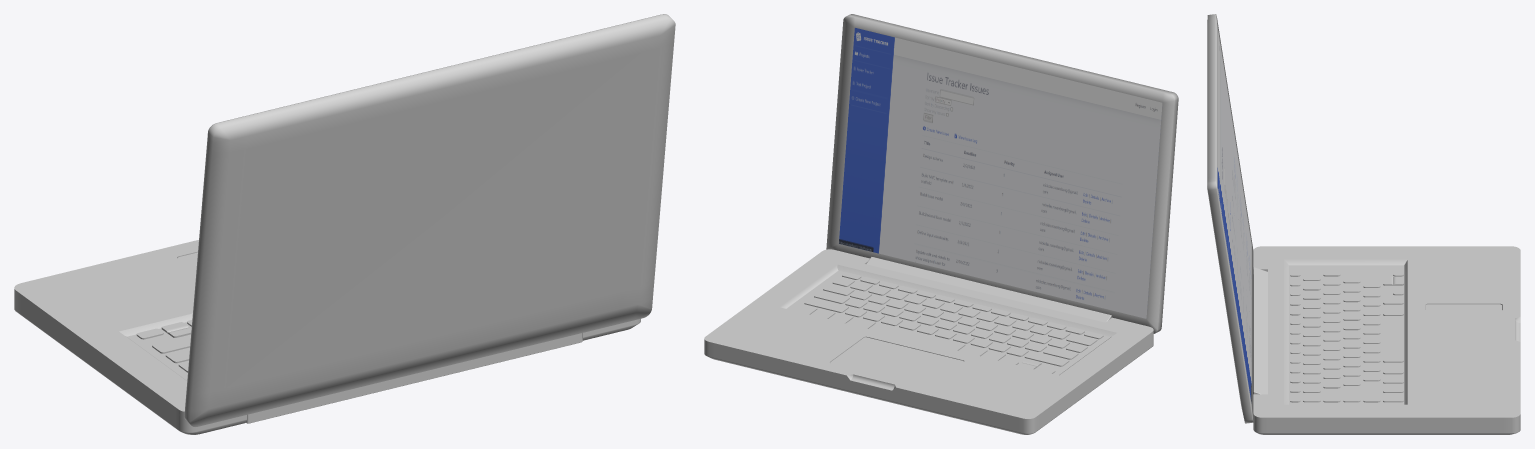
The model's file is issuetracker.glb.
3 views of the same model, side by side, from view 1: azimuth 30°, elevation 25°; view 2: azimuth 150°, elevation 25°; view 3: azimuth 270°, elevation 25° (orthographic). The views are drawn at different scales.
Visible parts, largest first — view 1: Cube.002_Cube.009, Cube.004, Cube.007_Cube.005, Cube.001, Cube.035, Cube.005_Cube.006; view 2: Cube.004, Cube.007_Cube.005, Cube.005_Cube.006, Cube.001, Cube.035; view 3: Cube.007_Cube.005, Cube.005_Cube.006, Cube.004, Cube.035, Cube.001.
Part boxes in pixels (<box>): Cube.002_Cube.009: <box>226,52,642,387</box>; Cube.004: <box>184,14,675,426</box>; Cube.007_Cube.005: <box>14,240,640,434</box>; Cube.001: <box>246,333,582,423</box>; Cube.035: <box>91,334,186,396</box>; Cube.005_Cube.006: <box>136,320,192,372</box>; Cube.004: <box>826,14,1178,333</box>; Cube.007_Cube.005: <box>704,249,1153,434</box>; Cube.005_Cube.006: <box>794,272,1103,373</box>; Cube.001: <box>866,257,1111,322</box>; Cube.035: <box>759,260,1137,379</box>; Cube.007_Cube.005: <box>1253,246,1520,434</box>; Cube.005_Cube.006: <box>1290,267,1403,402</box>; Cube.004: <box>1207,14,1253,423</box>; Cube.035: <box>1288,247,1403,416</box>; Cube.001: <box>1253,267,1267,394</box>.
Size of the model in its own units: 0.3669 by 0.2524 by 0.2826.
Materials: 10 (1 with a texture image).
